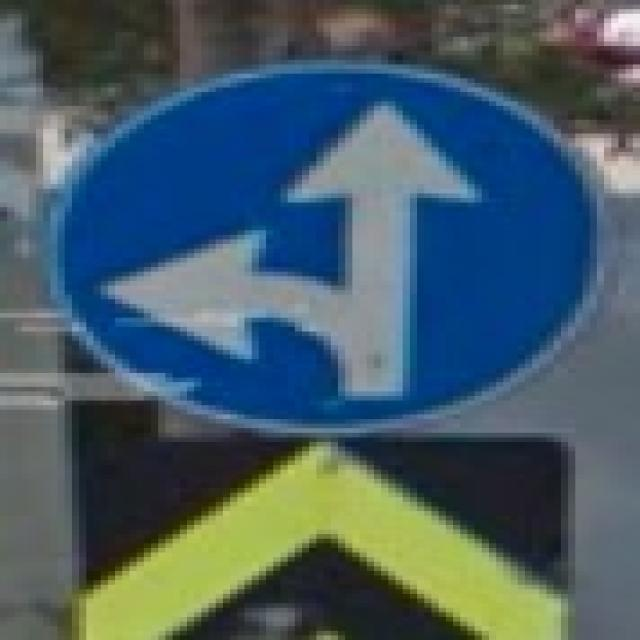Straight or Left: (44, 63, 605, 436)
